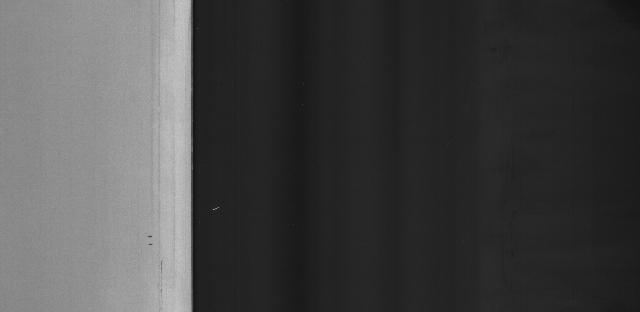inclusion: (144, 230, 159, 253)
